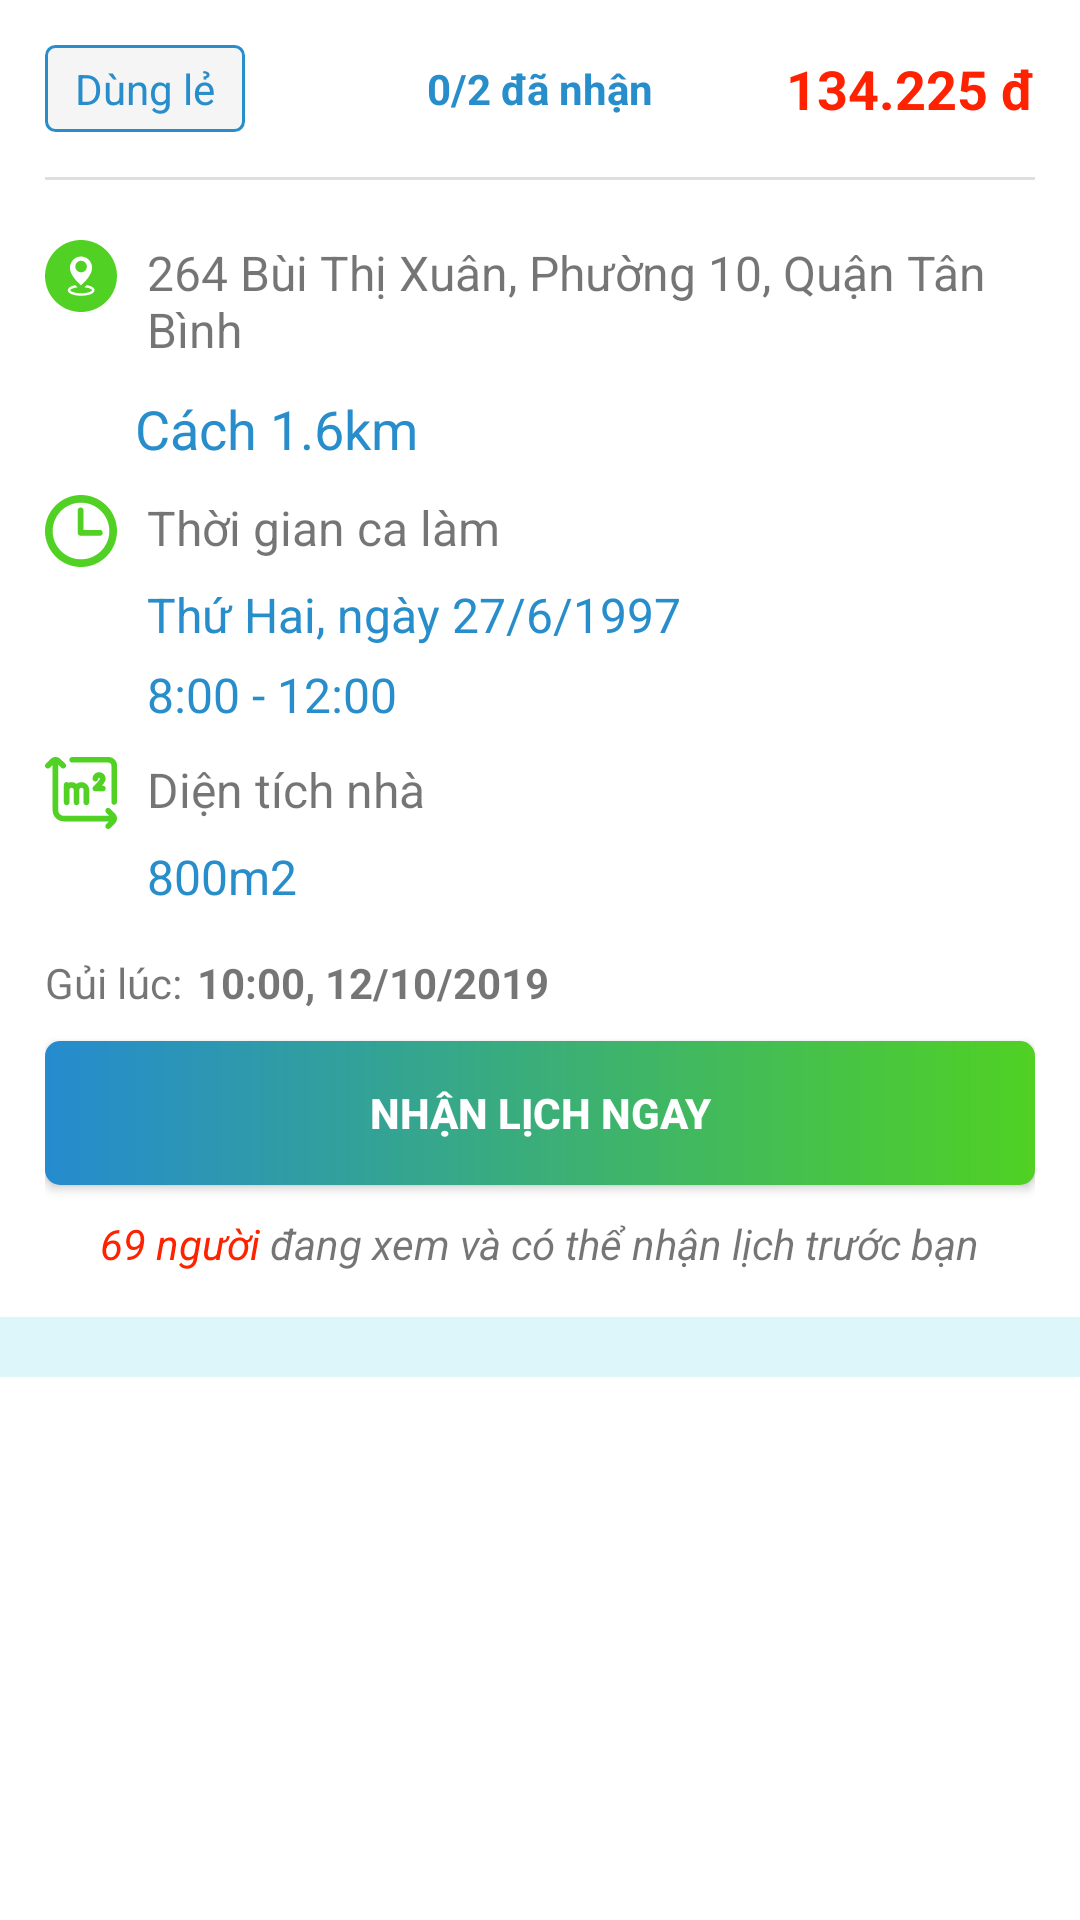

Named icons in this screenshot (1080×1920) and their centers, (x=x, y=y):
area: (x=81, y=793)
time: (x=81, y=531)
